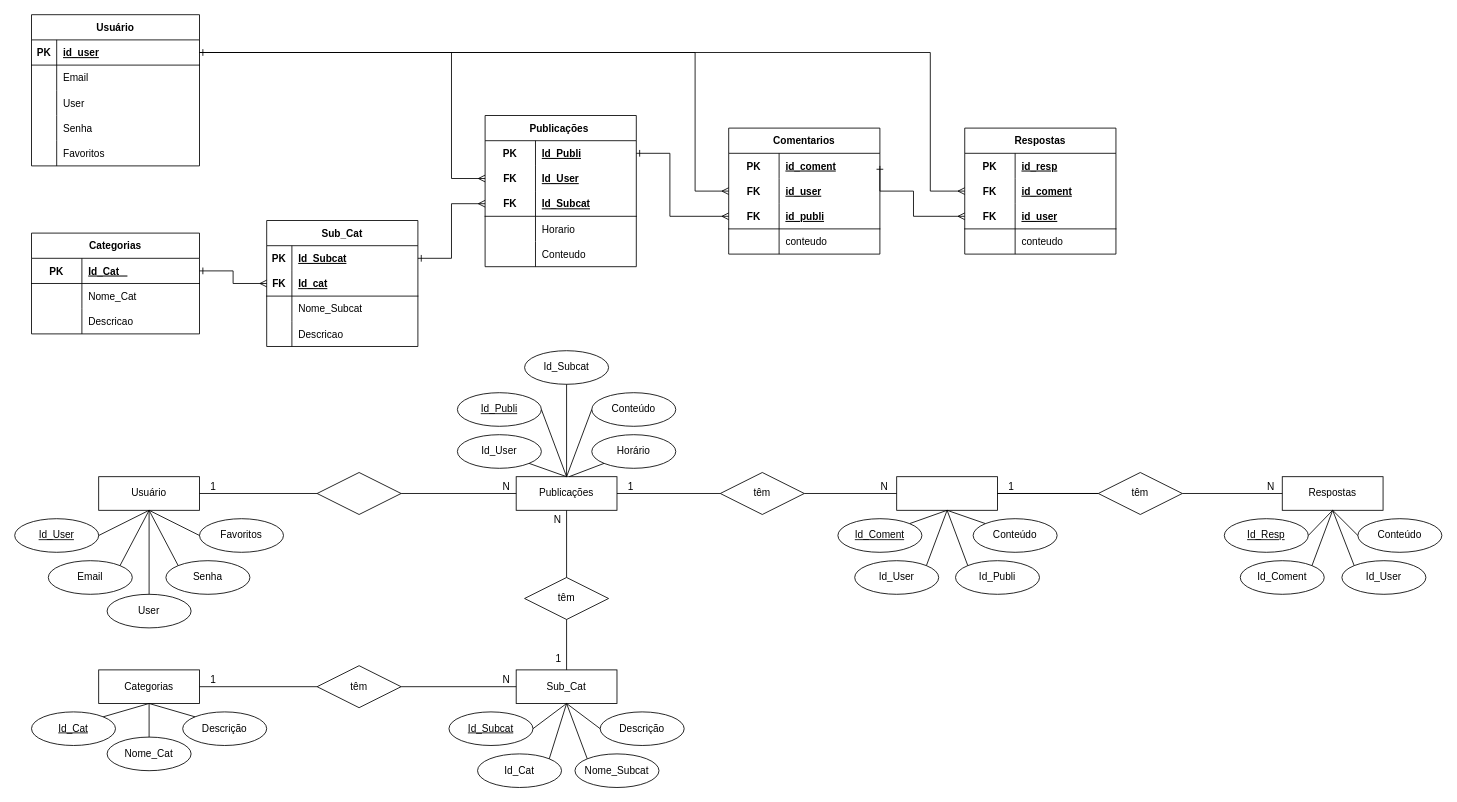
Image size: 1457x802. Some labels were removed from this diagram. Each missing label, with the centre of its shape:
Comentários: (947,493)
faz: (358,493)
